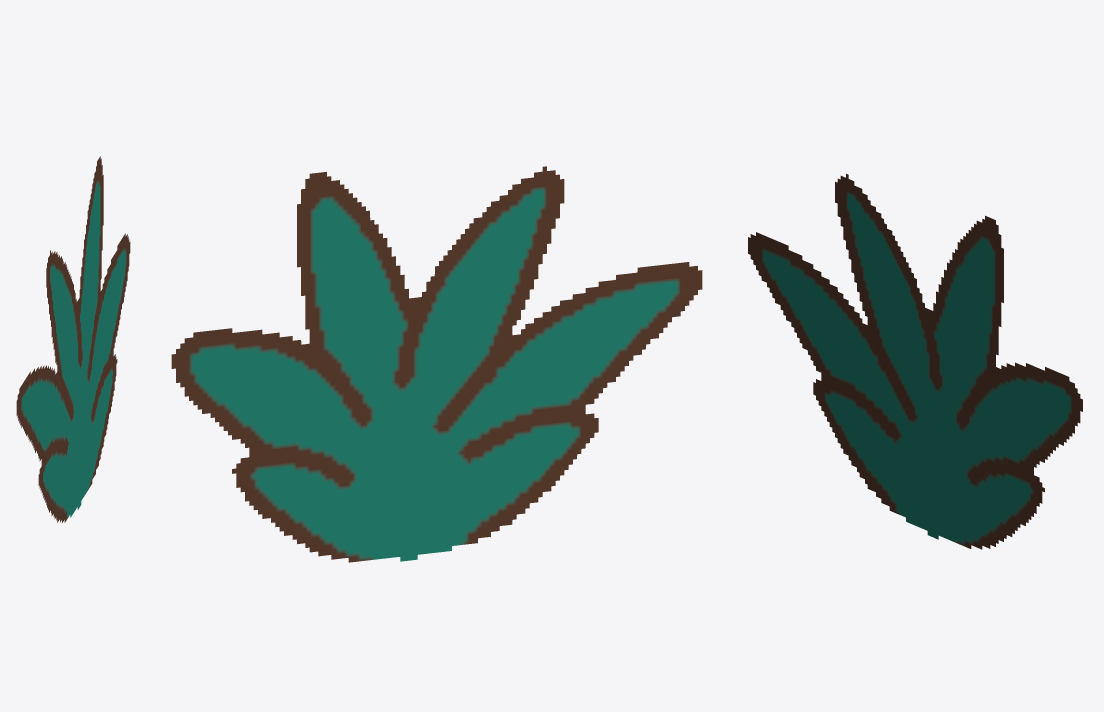
Rendered from grass-tuft2.gltf.
The picture shows the model from 3 angles, left to right: view 1: azimuth 30°, elevation 25°; view 2: azimuth 150°, elevation 25°; view 3: azimuth 270°, elevation 25°; orthographic projection. The views are drawn at different scales.
Visible parts, largest first — view 1: Grass Tuft2; view 2: Grass Tuft2; view 3: Grass Tuft2.
Boxes of the visible parts, x1=… form: Grass Tuft2: x1=16, y1=156, x2=130, y2=522; Grass Tuft2: x1=171, y1=166, x2=702, y2=562; Grass Tuft2: x1=748, y1=173, x2=1082, y2=549.
Bounding box in the file's own units: 0.8485 × 1.44 × 0.8485.
1 material, 1 textured.
